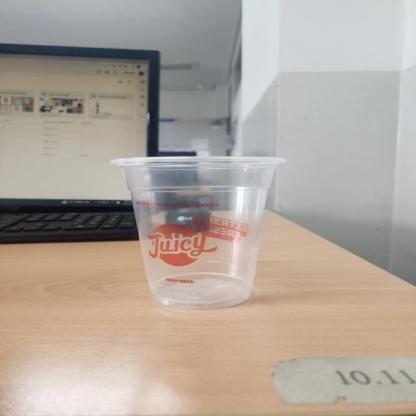Plastic Cup: (108, 154, 288, 310)
